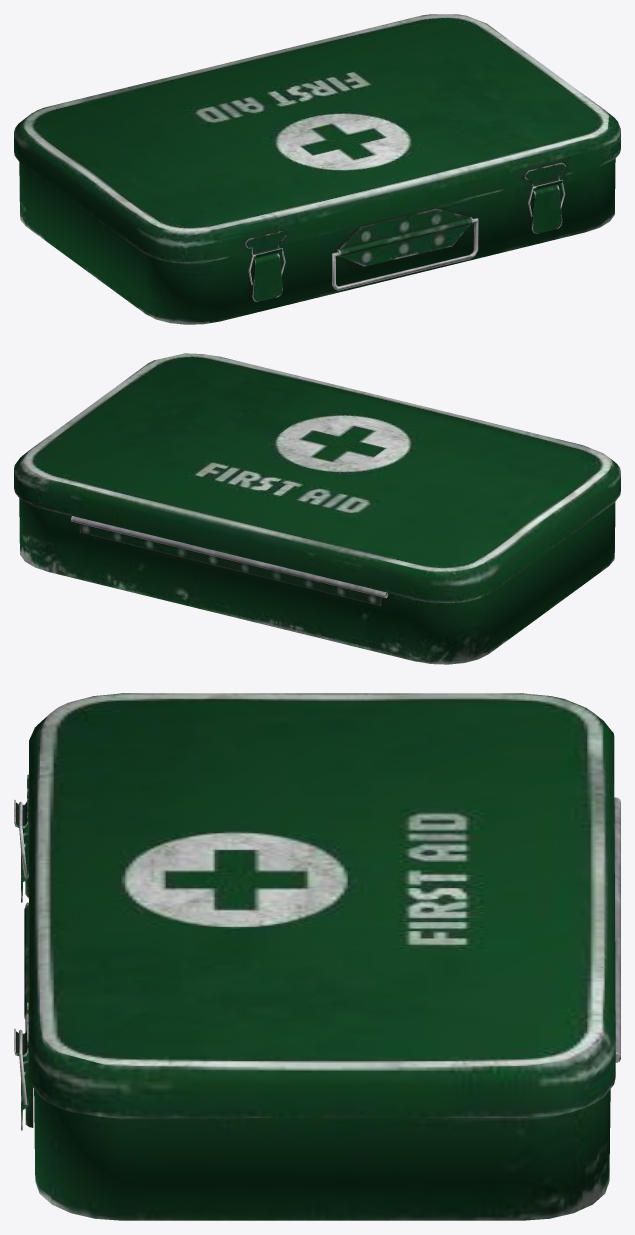
The model's file is medical_box.glb.
The picture shows the model from 3 angles, top to bottom: view 1: azimuth 30°, elevation 25°; view 2: azimuth 150°, elevation 25°; view 3: azimuth 270°, elevation 25°; orthographic projection. The views are drawn at different scales.
Parts seen in each view (by area): view 1: medical_box_latch; view 2: medical_box_latch; view 3: medical_box_latch.
Boxes of the visible parts, x1,y1,x2,y2 form: medical_box_latch: (14,14,620,324); medical_box_latch: (14,353,620,664); medical_box_latch: (14,693,620,1220).
Bounding box in the file's own units: 0.5255 × 0.0975 × 0.3501.
Materials: 1 (1 with a texture image).
